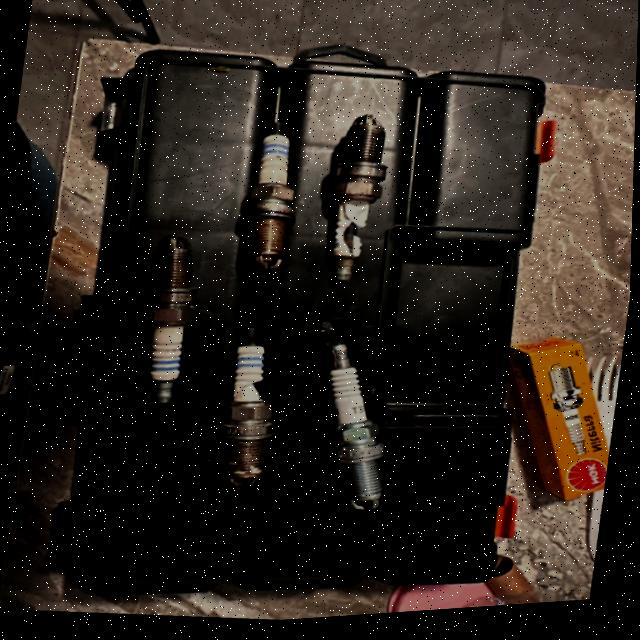damaged_spark-plug: (316, 116, 391, 294), (217, 334, 283, 494)
spark-plug: (316, 339, 404, 514), (139, 237, 206, 413), (228, 126, 303, 280)
